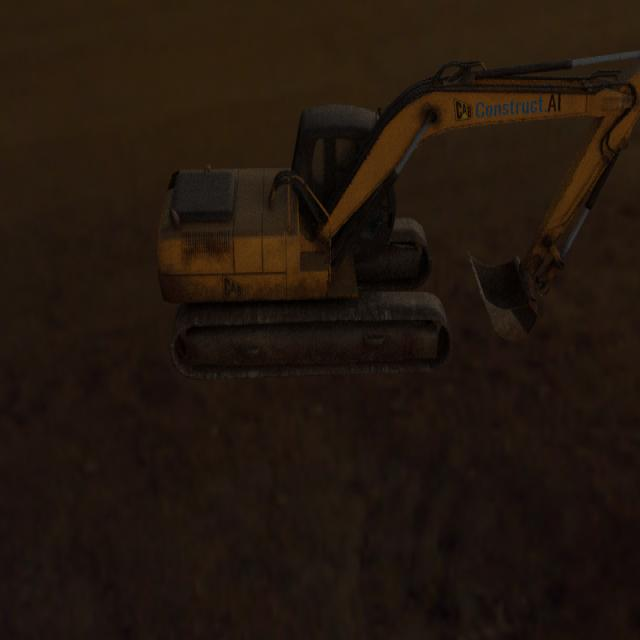excavator: (156, 49, 640, 380)
